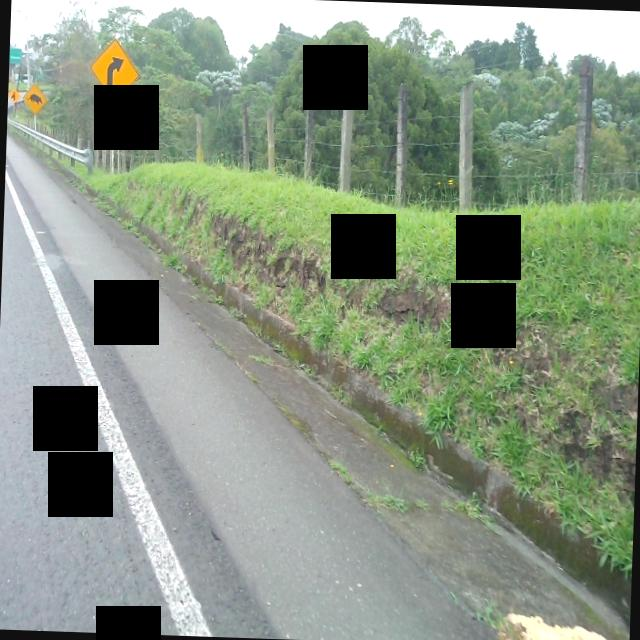DITCH: (0, 0, 640, 640), (0, 3, 640, 640), (0, 131, 640, 640)
